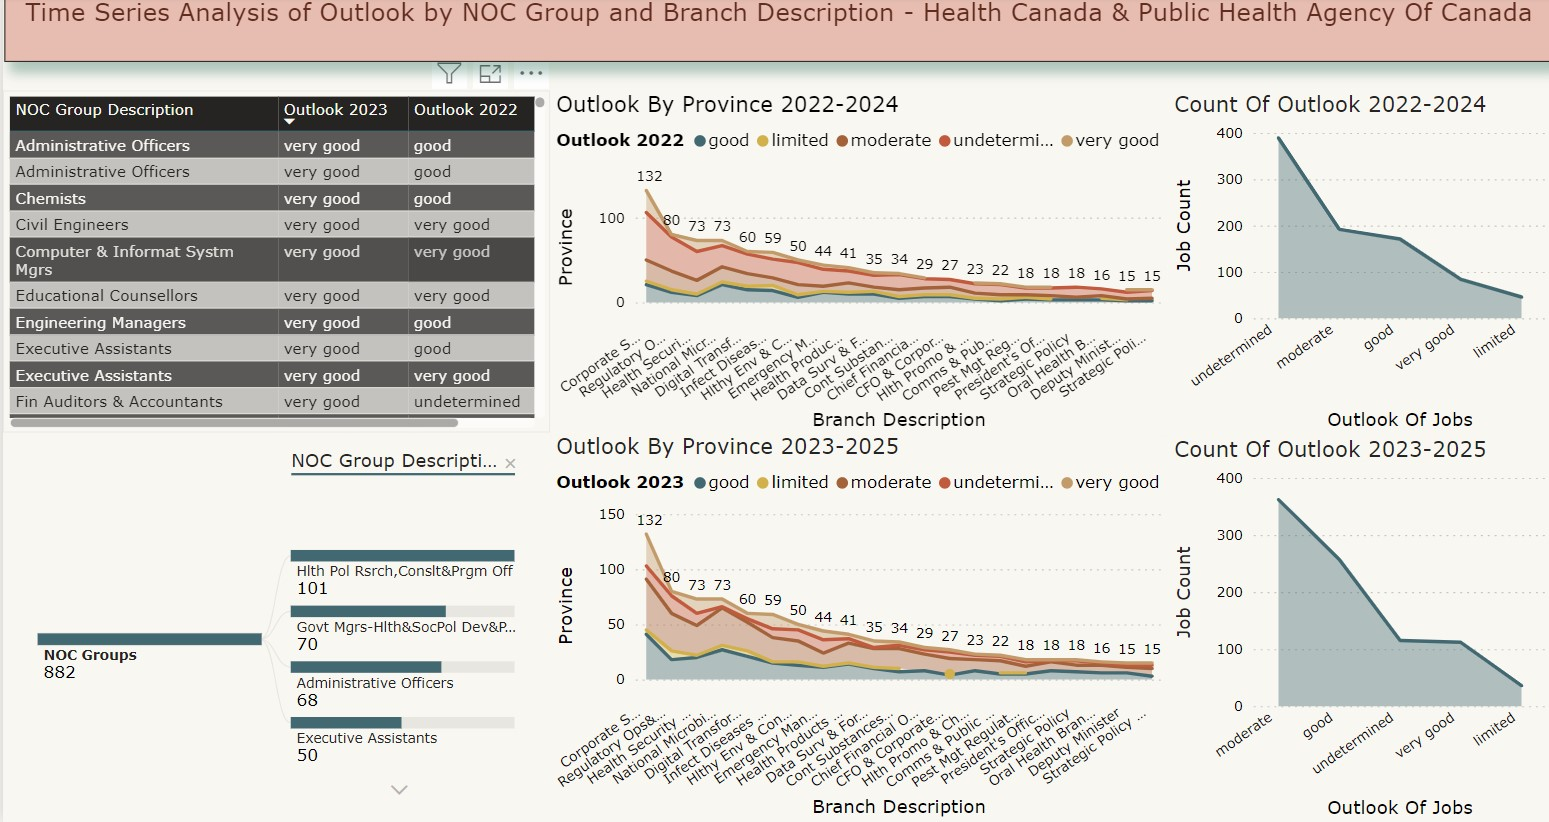

Layout of this report page (visuals, bound fields, positions):
{"tool":"powerbi","page":{"name":"Time Series ","canvas":[1350,720],"ordinal":0},"visuals":[{"type":"decompositionTreeVisual","fields":{"Analyze":["CountNonNull(Health Canada.PROVINCE)"],"ExplainBy":["Health Canada.NOC_GROUP_DESCR_EN"]},"box":[0,381.1,477.5,339.4],"z":0},{"type":"stackedAreaChart","title":"Count Of Outlook 2023-2025","fields":{"Category":["Health Canada.2023.Outlook 2023"],"Y":["CountNonNull(Health Canada.2022.Outlook 2022)"]},"box":[1015.3,382.5,333.6,338],"z":1000},{"type":"areaChart","title":"Count Of Outlook 2022-2024","fields":{"Category":["Health Canada.2022.Outlook 2022"],"Y":["CountNonNull(Health Canada.2023.Outlook 2023)"]},"box":[1015.3,82,333.6,300.6],"z":2000},{"type":"tableEx","fields":{"Values":["Health Canada.NOC_GROUP_DESCR_EN","Health Canada.2023.Outlook 2023","Health Canada.2022.Outlook 2022","Health Canada.PROVINCE"]},"box":[0,82,477.5,299.1],"z":3000},{"type":"stackedAreaChart","title":"Outlook By Province 2023-2025","fields":{"Category":["Health Canada.BRANCH_DESCR_EN"],"Y":["CountNonNull(Health Canada.PROVINCE)"],"Series":["Health Canada.2023.Outlook 2023"]},"box":[477.5,381.1,537.9,339.4],"z":4000},{"type":"stackedAreaChart","title":"Outlook By Province 2022-2024","fields":{"Category":["Health Canada.BRANCH_DESCR_EN"],"Y":["CountNonNull(Health Canada.PROVINCE)"],"Series":["Health Canada.2022.Outlook 2022"]},"box":[477.5,82,537.9,300.6],"z":5000},{"type":"textbox","title":"Time Series Analysis of Outlook by NOC Group and Branch Description  - Health Canada & Public Health Agency Of Canada","box":[1.4,0,1348.9,57.5],"z":5001}]}

Visuals, with their boxes in screenshot pixels (x1, y1, x2, y2), scaled from the page's 1350x720 canvas onto the 1549x822 screenshot:
decompositionTreeVisual - CountNonNull(Health Canada.PROVINCE) x Health Canada.NOC_GROUP_DESCR_EN: left=0, top=435, right=548, bottom=821
"Count Of Outlook 2023-2025" stackedAreaChart: left=1165, top=437, right=1548, bottom=821
"Count Of Outlook 2022-2024" areaChart: left=1165, top=94, right=1548, bottom=437
tableEx - Health Canada.NOC_GROUP_DESCR_EN x Health Canada.2023.Outlook 2023: left=0, top=94, right=548, bottom=435
"Outlook By Province 2023-2025" stackedAreaChart: left=548, top=435, right=1165, bottom=821
"Outlook By Province 2022-2024" stackedAreaChart: left=548, top=94, right=1165, bottom=437
"Time Series Analysis of Outlook by NOC Group and Branch Description  - Health Canada & Public Health Agency Of Canada" textbox: left=2, top=0, right=1548, bottom=66
